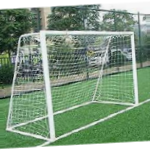goals: (6, 29, 140, 141)
